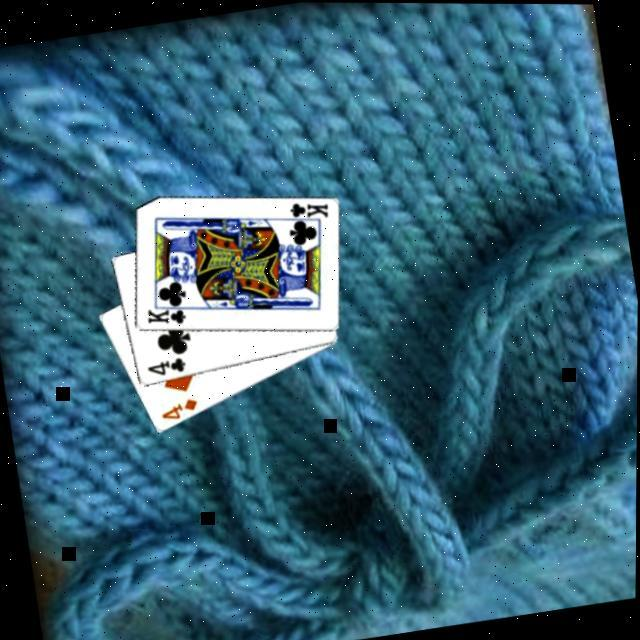4C: (145, 355, 191, 381)
4D: (158, 395, 204, 425)
KC: (281, 196, 335, 231), (144, 298, 196, 332)
